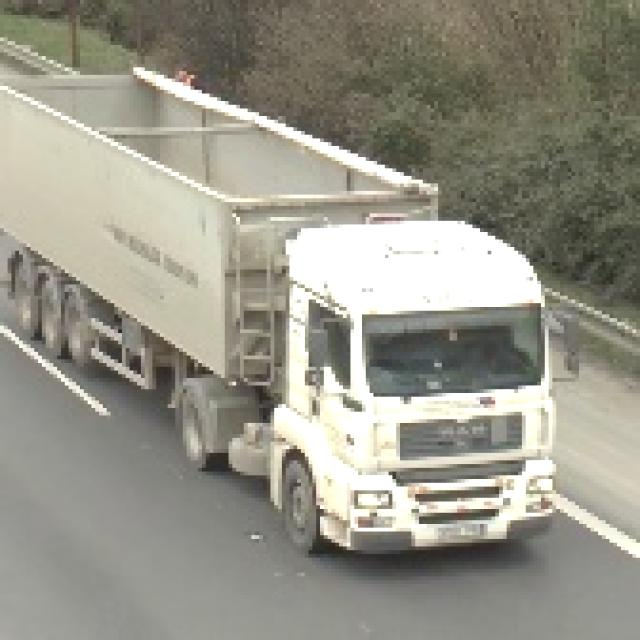TRUCK: (2, 68, 574, 572)
